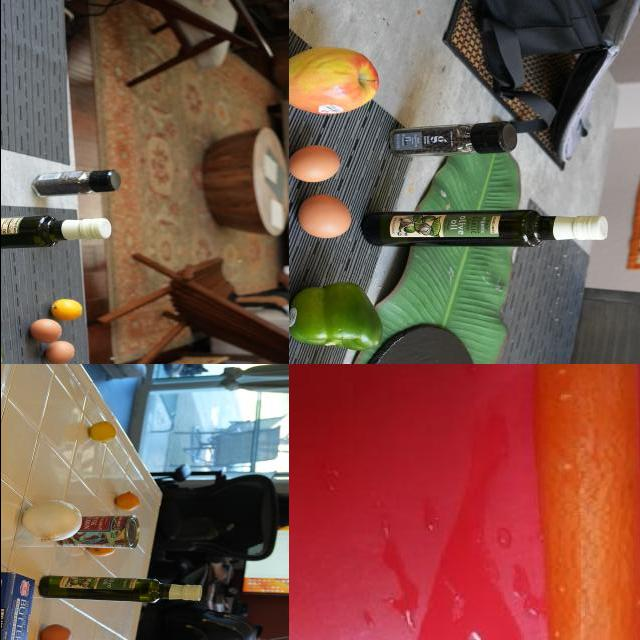bell_pepper: (387, 116, 521, 168), (289, 281, 387, 351), (35, 171, 117, 201)
carrot: (543, 365, 640, 640)
egg: (290, 189, 353, 249), (289, 140, 348, 186), (41, 340, 80, 365), (27, 320, 64, 346), (37, 625, 77, 640)
onion: (21, 491, 83, 545)
